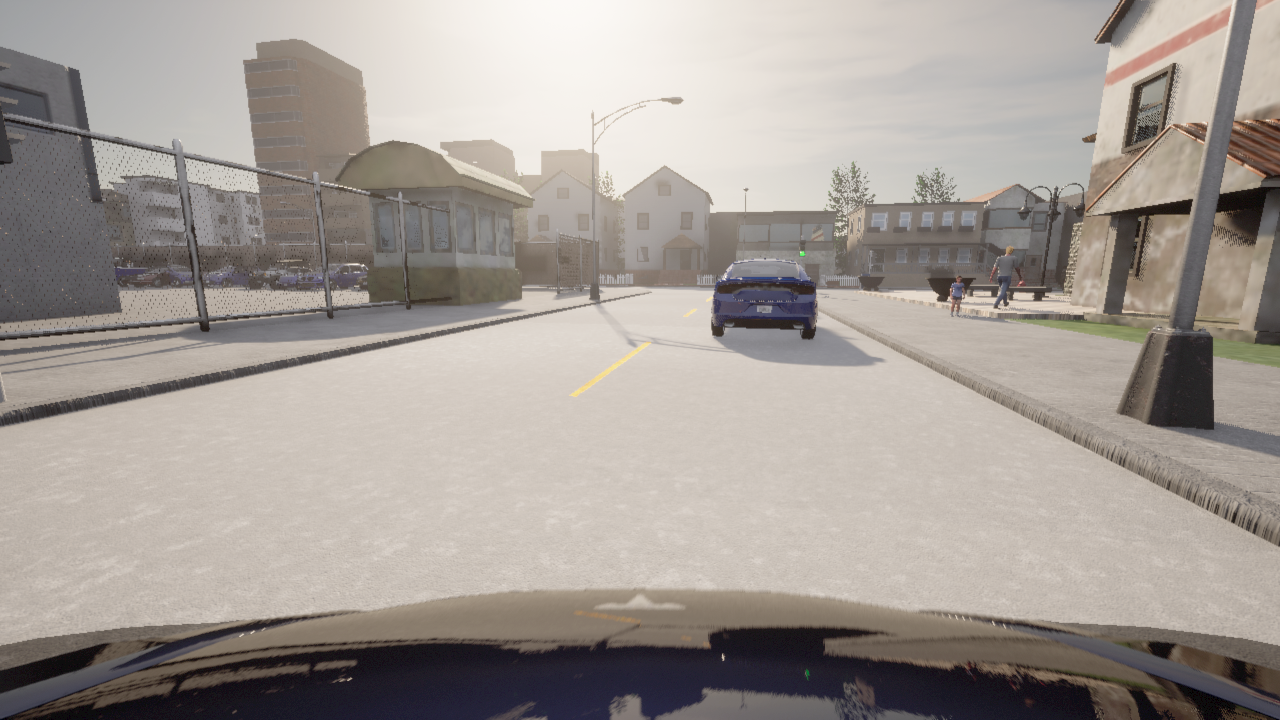cyclist: (0, 588, 1279, 719), (711, 257, 817, 338), (297, 263, 368, 289), (245, 260, 310, 288), (113, 258, 170, 286), (121, 269, 208, 286), (203, 265, 266, 287), (144, 265, 204, 286), (277, 267, 311, 288), (356, 274, 367, 289)
pedestrian: (989, 246, 1021, 308), (950, 275, 964, 316), (1059, 266, 1066, 288)
